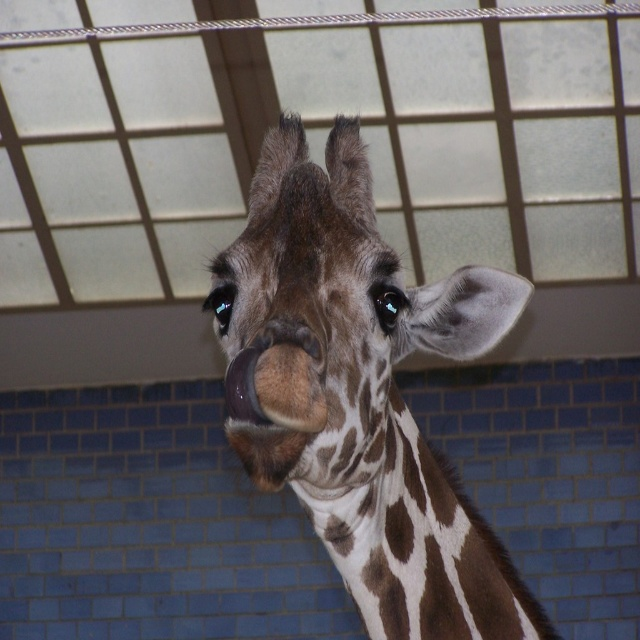Giraffe: (197, 106, 566, 639)
